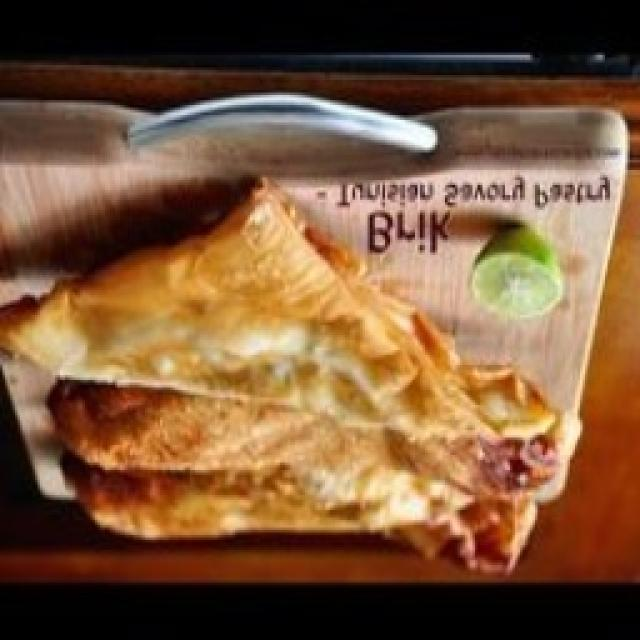Brik: (0, 178, 580, 572)
